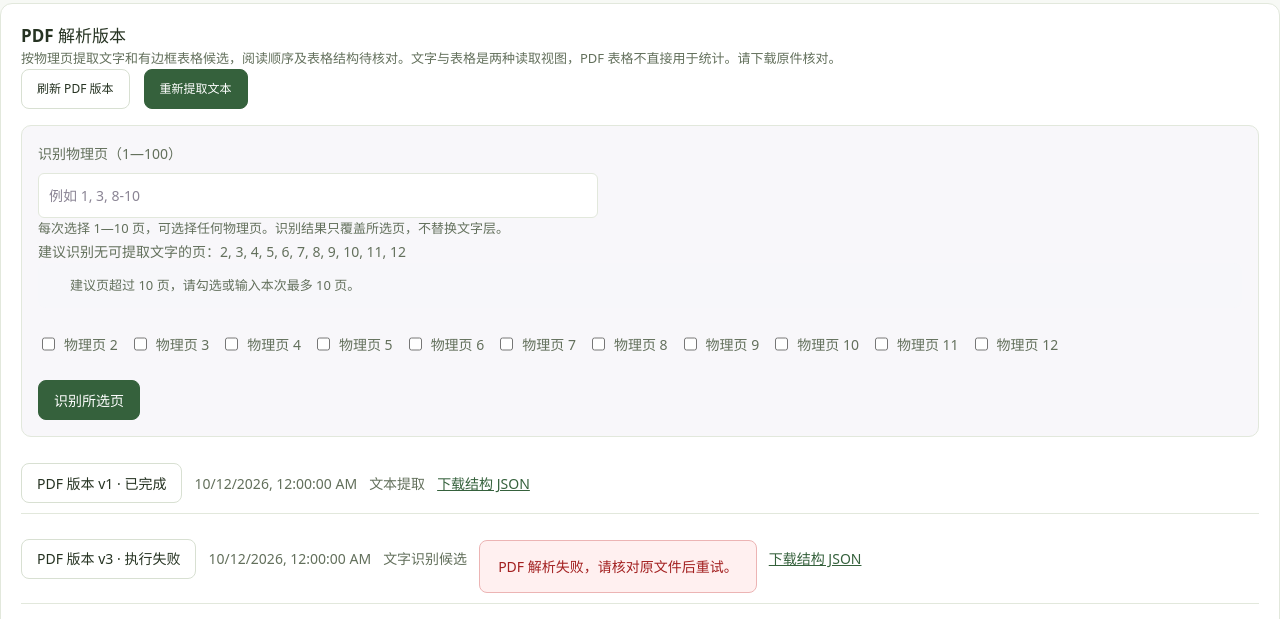
Test: failed OCR version can be inspected while the prior successful content remains available
Step 1. Click the button "PDF 版本 v1 · 已完成" → click(102, 483), box [21, 463, 182, 503]
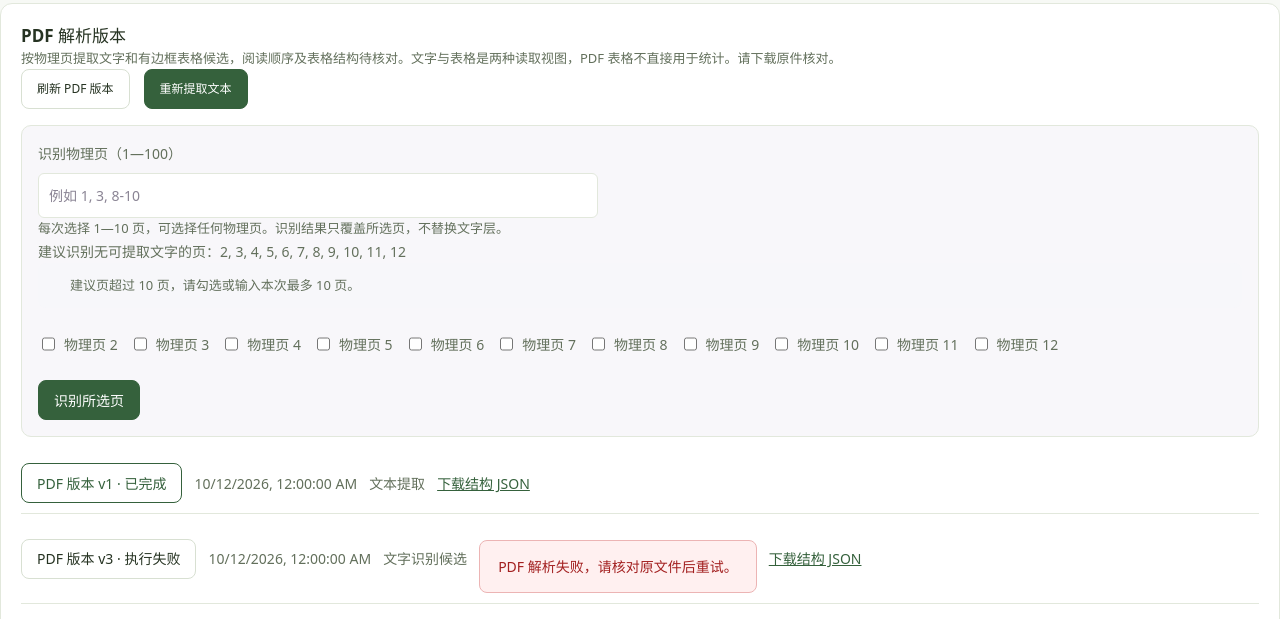
Step 2. Click the button "PDF 版本 v3 · 执行失败" → click(109, 559), box [21, 539, 196, 579]
(page scrolled)
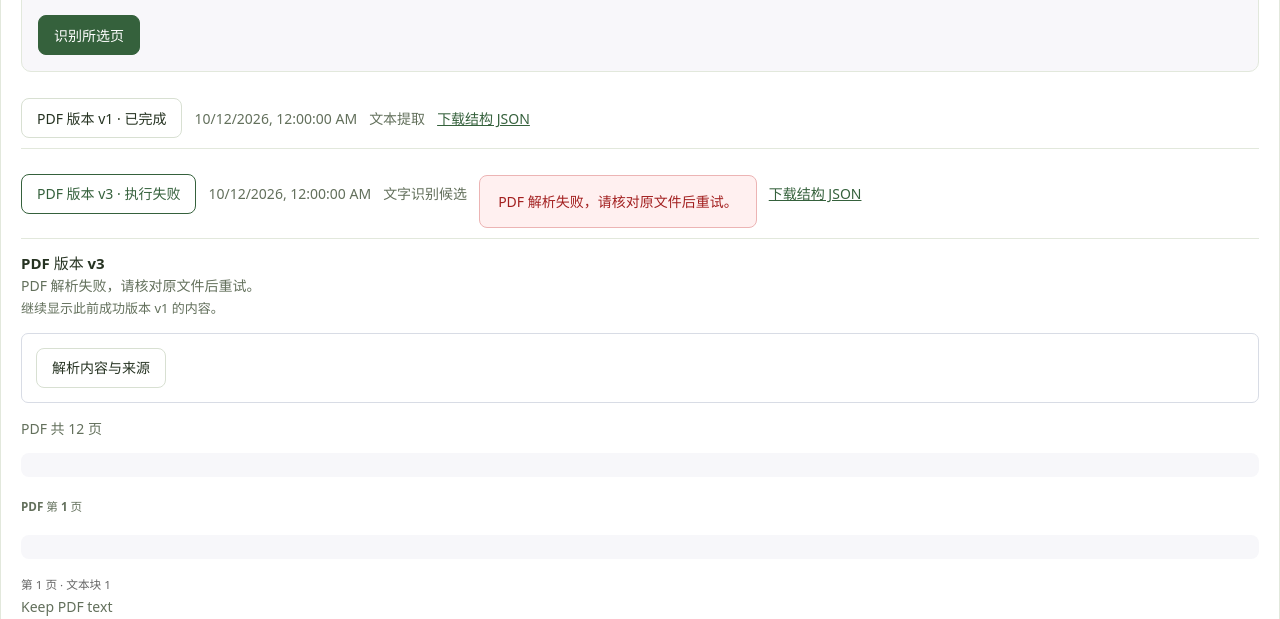
Expected: the text "Keep PDF text" is shown, [21, 597, 112, 616]
Expected: the heading "PDF 版本 v3" is shown, [21, 254, 105, 274]
